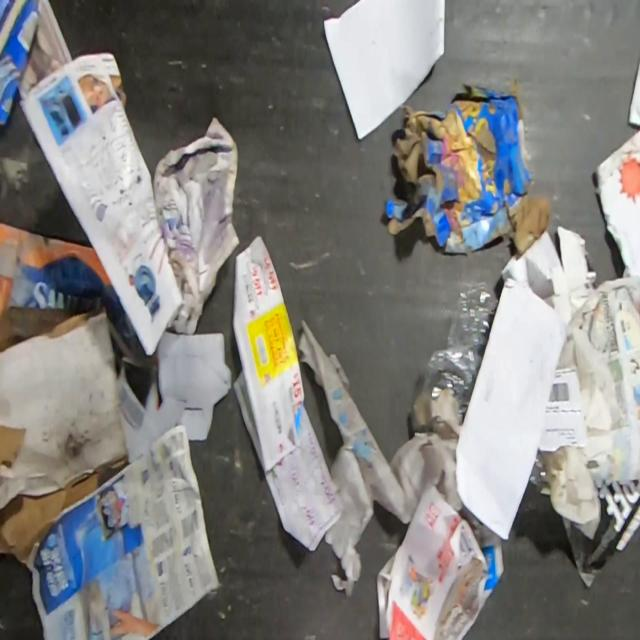cardboard: (0, 305, 128, 565), (385, 80, 551, 258), (0, 222, 157, 377), (559, 478, 640, 589), (156, 330, 232, 441), (118, 359, 188, 463)
soft_plastic: (298, 318, 463, 601), (417, 279, 500, 421), (528, 449, 548, 487)
